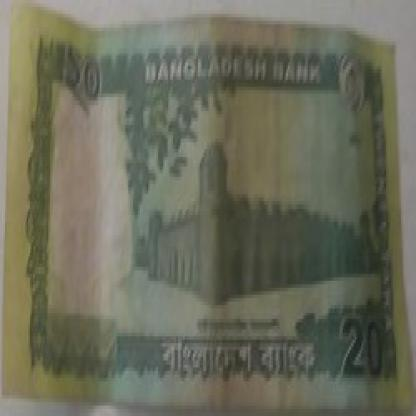Twenty: (334, 305, 390, 392), (60, 45, 111, 118)
